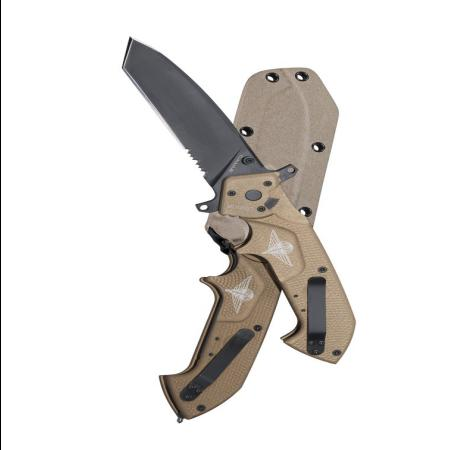long weapon: (105, 20, 283, 216)
